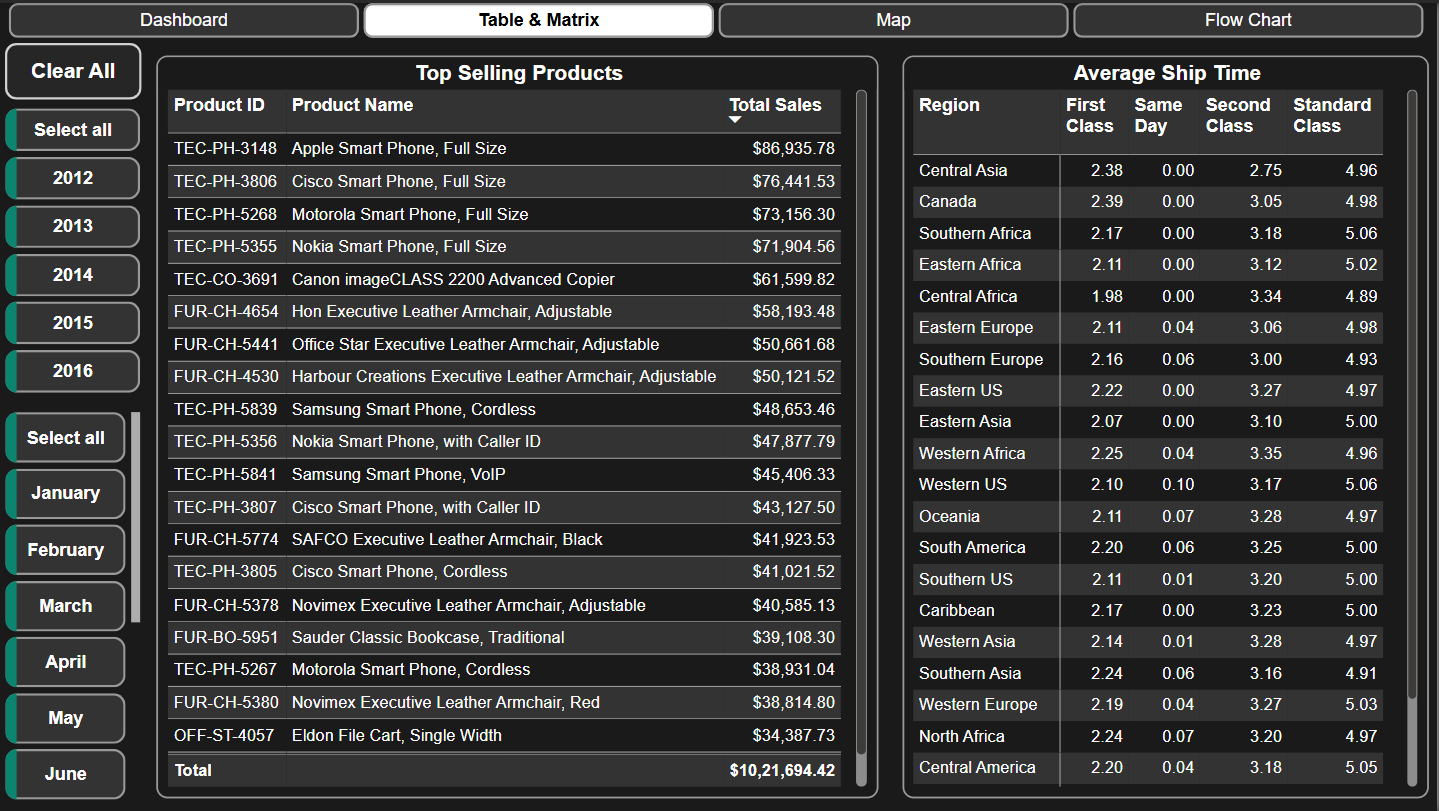

This screenshot's page, from the dashboard's own definition file:
{"tool":"powerbi","page":{"name":"Performance Summary","canvas":[1280,720],"ordinal":5},"visuals":[{"type":"pageNavigator","box":[8.1,0,1263.8,31.9],"z":0},{"type":"actionButton","box":[4.9,35.6,121.5,50.3],"z":250},{"type":"advancedSlicerVisual","fields":{"Values":["Dim_Date.Year"]},"box":[0,89.6,130.1,263.8],"z":500},{"type":"advancedSlicerVisual","fields":{"Values":["Dim_Date.Date.Variation.Date Hierarchy.Month"]},"box":[0,359.5,130.1,357.1],"z":750},{"type":"tableEx","fields":{"Values":["Dim_Products.Product ID","Dim_Products.Product Name","_Measures.Total Sales"]},"box":[138.7,46.6,642.9,661.4],"z":2000},{"type":"pivotTable","title":"Average Ship Time","fields":{"Values":["_Measures.Average Ship Time"],"Rows":["Dim_Customers.Region"],"Columns":["Fact_Orders.Ship Mode"]},"box":[803.7,46.6,468.7,661.4],"z":3000}]}

Visuals, with their boxes in screenshot pixels (x1, y1, x2, y2), scaled from the page's 1280x720 canvas onto the 1439x811 screenshot:
pageNavigator: (x1=9, y1=0, x2=1430, y2=36)
actionButton: (x1=6, y1=40, x2=142, y2=97)
advancedSlicerVisual - Dim_Date.Year: (x1=0, y1=101, x2=146, y2=398)
advancedSlicerVisual - Dim_Date.Date.Variation.Date Hierarchy.Month: (x1=0, y1=405, x2=146, y2=807)
tableEx - Dim_Products.Product ID x Dim_Products.Product Name: (x1=156, y1=52, x2=879, y2=797)
"Average Ship Time" pivotTable: (x1=904, y1=52, x2=1430, y2=797)
